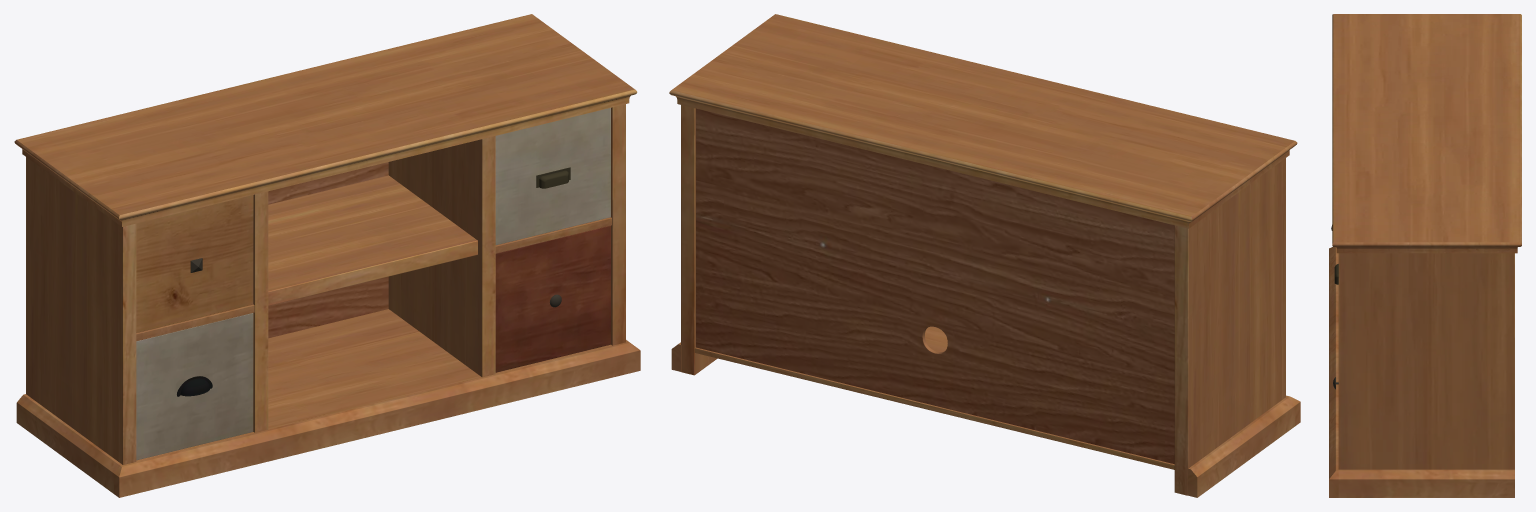
File: abo-B07MBFDX77.glb
3 views of the same model, side by side, from view 1: azimuth 30°, elevation 25°; view 2: azimuth 150°, elevation 25°; view 3: azimuth 270°, elevation 25° (orthographic). The views are drawn at different scales.
Bounding box in the file's own units: 1.18 × 0.607 × 0.417.
1 material, 1 textured.
